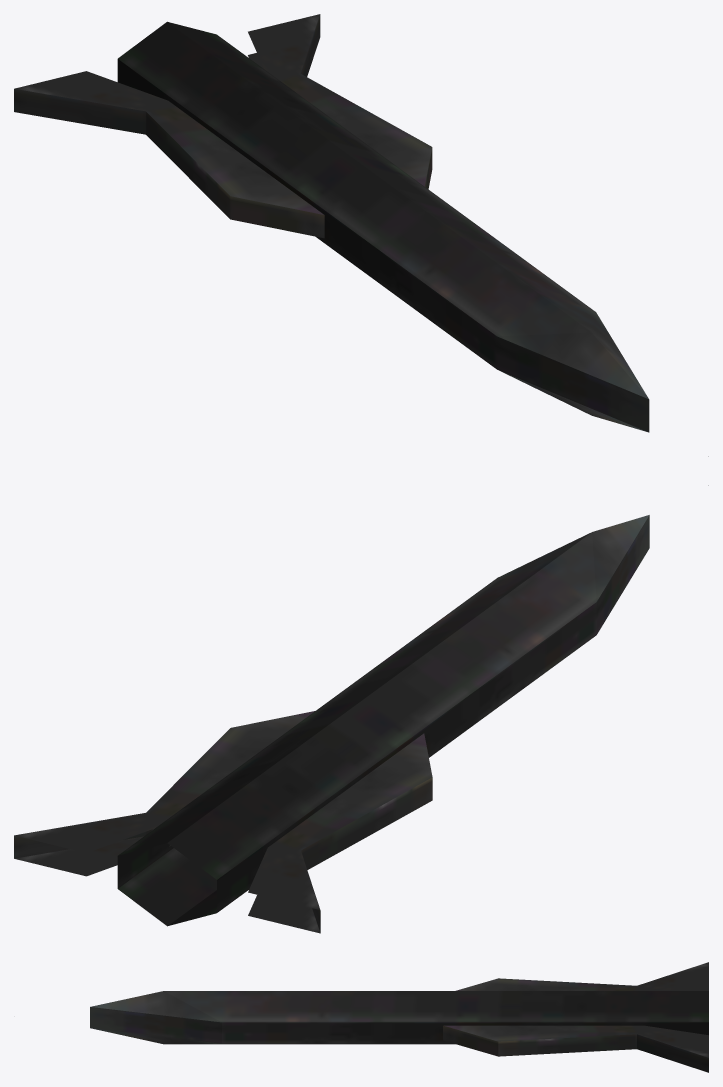
The model's file is zhanchang_fuben_293_zudangmen.obj.
3 renders of one model, top to bottom at view 1: azimuth 30°, elevation 25°; view 2: azimuth 150°, elevation 25°; view 3: azimuth 270°, elevation 25°, orthographic. The views are drawn at different scales.
Parts seen in each view (by area): view 1: Plane02; view 2: Plane02; view 3: Plane02.
Boxes of the visible parts, x1,y1,x2,y2 form: Plane02: (14,14,708,456); Plane02: (14,485,708,933); Plane02: (90,962,708,1072).
Size of the model in its own units: 60.59 by 15.73 by 186.
Materials: 1 (1 with a texture image).
